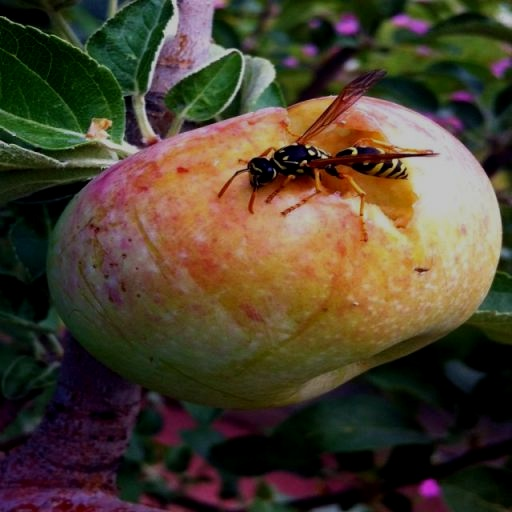fruit: (48, 99, 500, 408)
